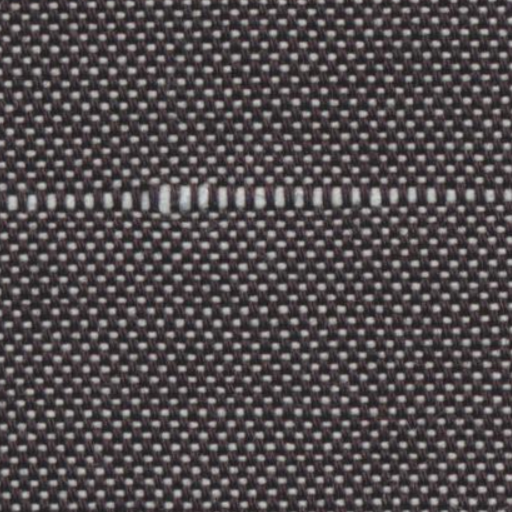DaiSha: (14, 170, 481, 226)
